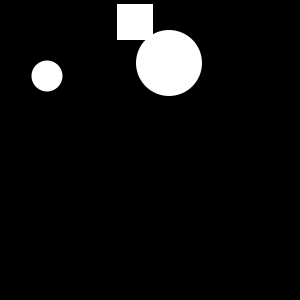circle: (117, 4, 153, 40)
rectangle: (136, 30, 202, 96), (32, 61, 62, 92)
